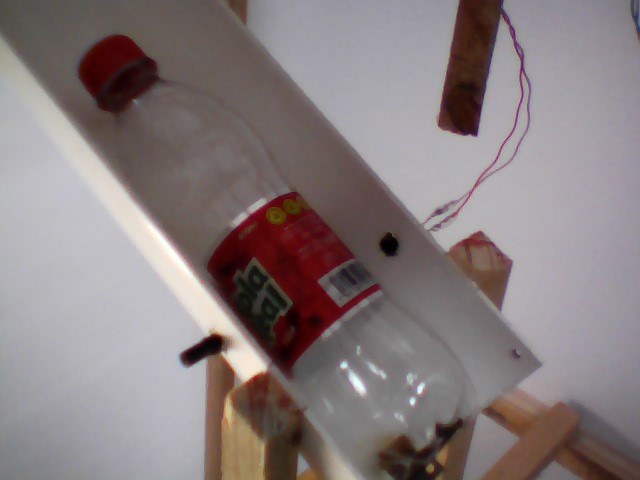plastico: (73, 27, 489, 480)
